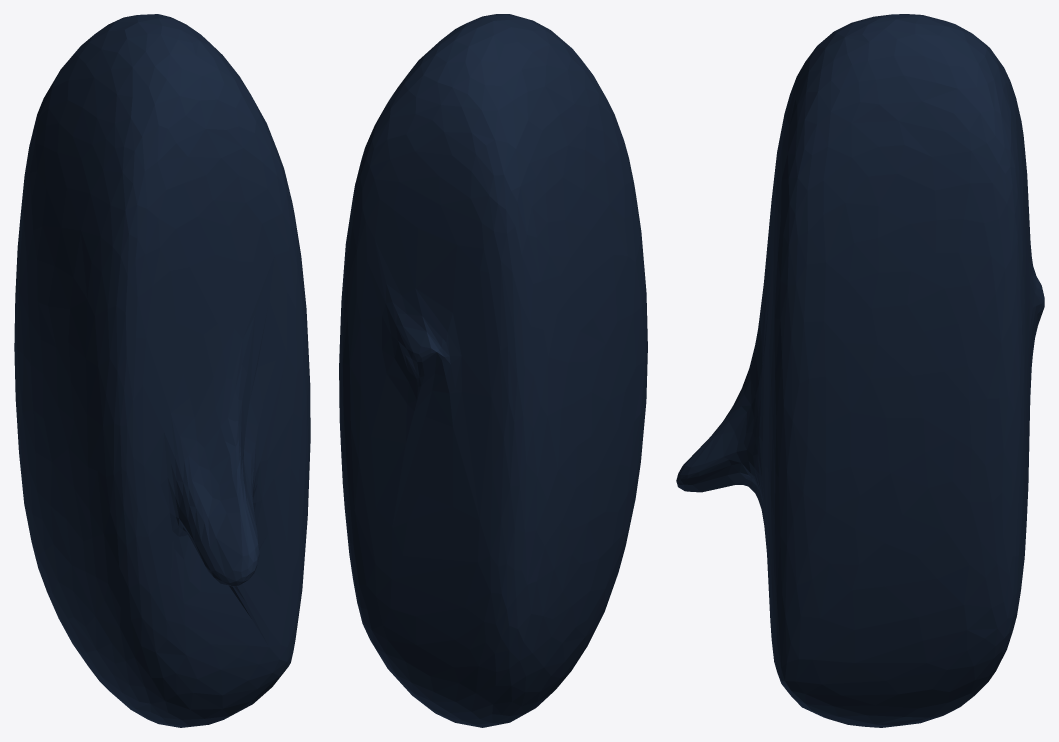
3 views of the same model, side by side, from view 1: azimuth 30°, elevation 25°; view 2: azimuth 150°, elevation 25°; view 3: azimuth 270°, elevation 25° (orthographic).
Visible parts, largest first — view 1: 216_Cube.890; view 2: 216_Cube.890; view 3: 216_Cube.890.
Part boxes in pixels (x1,y1,x2,y2): 216_Cube.890: (14, 14, 310, 727); 216_Cube.890: (339, 14, 647, 727); 216_Cube.890: (676, 14, 1044, 727).
Size of the model in its own units: 3.51 by 10.67 by 5.08.
